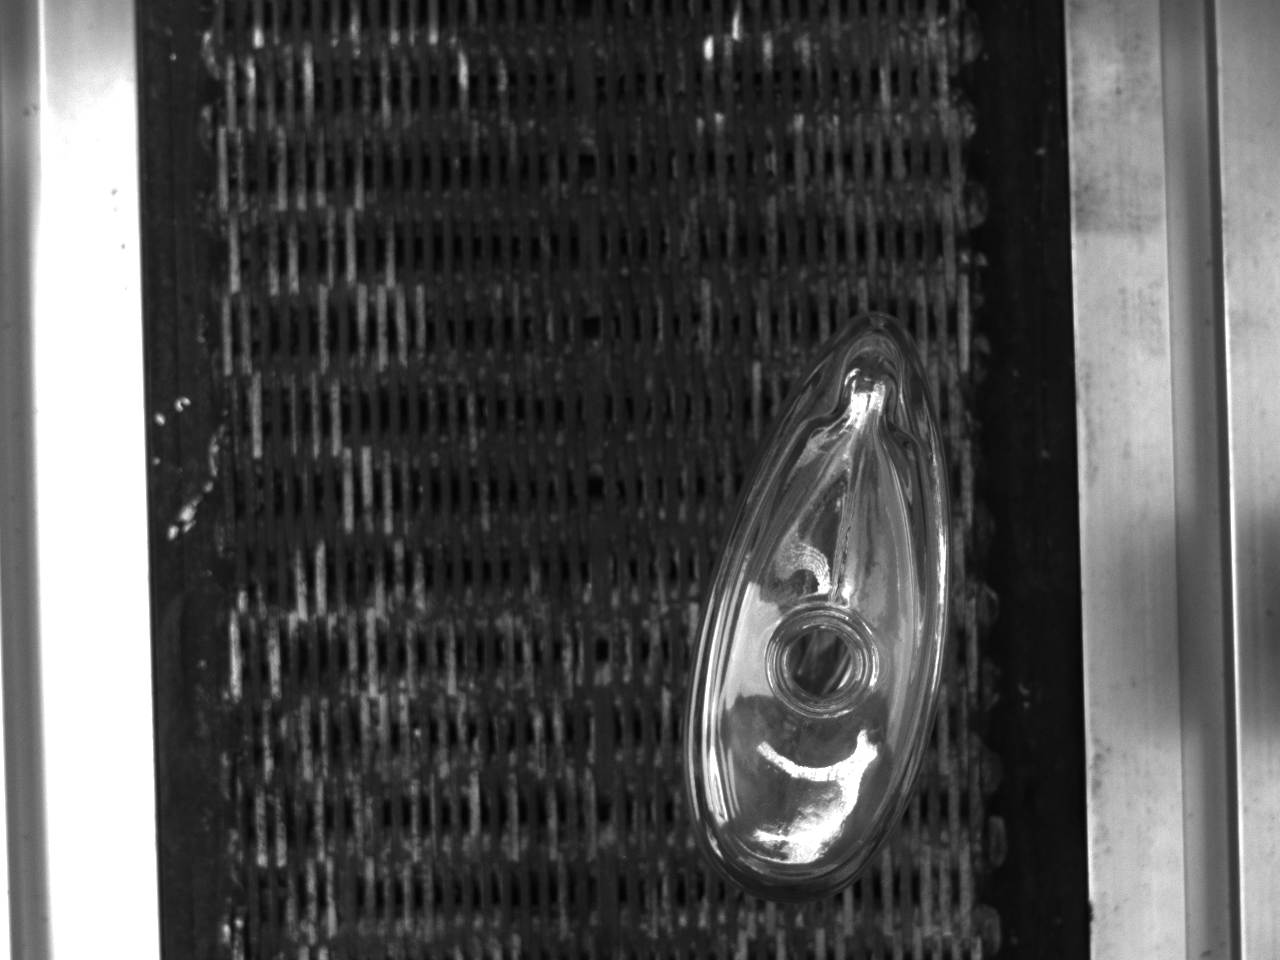bottleneck: (767, 609, 878, 715)
